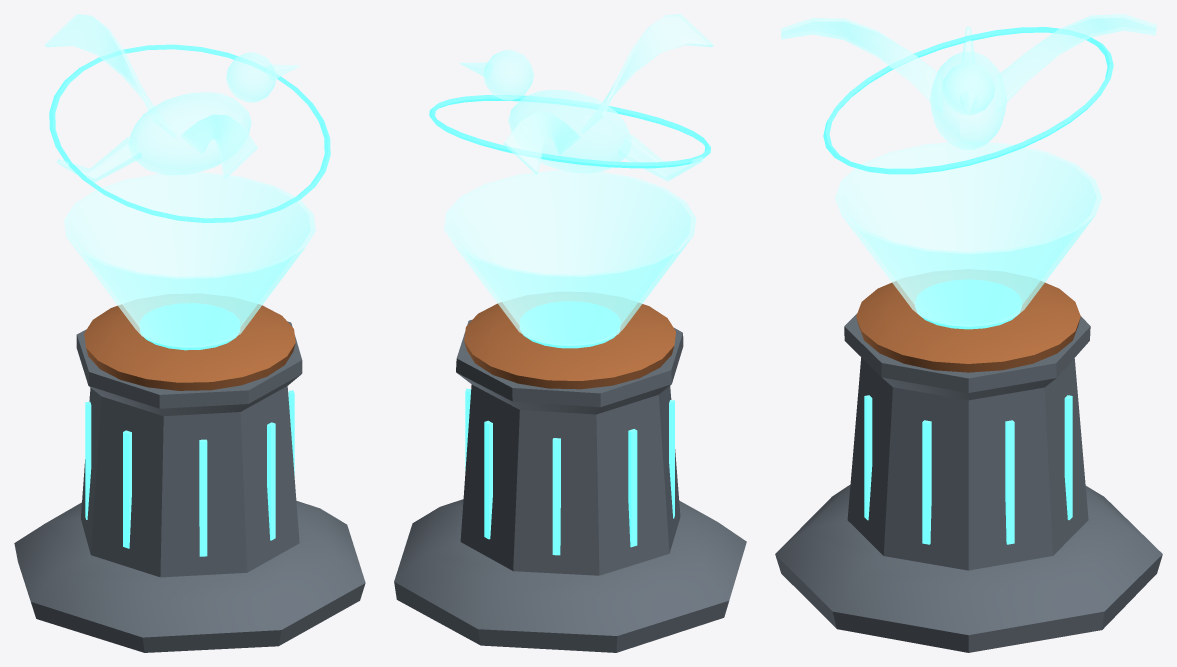
File: deco_holo_idol_creature.fbx
3 views of the same model, side by side, from view 1: azimuth 30°, elevation 25°; view 2: azimuth 150°, elevation 25°; view 3: azimuth 270°, elevation 25° (orthographic). The views are drawn at different scales.
Parts seen in each view (by area): view 1: HoloIdol_Creature_Pedestal, HoloIdol_Creature_Beam, HoloIdol_Creature_Emitter, HoloIdol_Creature_Hologram, HoloIdol_Creature_Halo; view 2: HoloIdol_Creature_Pedestal, HoloIdol_Creature_Beam, HoloIdol_Creature_Emitter, HoloIdol_Creature_Hologram, HoloIdol_Creature_Halo; view 3: HoloIdol_Creature_Pedestal, HoloIdol_Creature_Beam, HoloIdol_Creature_Emitter, HoloIdol_Creature_Hologram, HoloIdol_Creature_Halo.
Part boxes in pixels (<box>): HoloIdol_Creature_Pedestal: <box>14,321,365,652</box>; HoloIdol_Creature_Beam: <box>64,172,315,347</box>; HoloIdol_Creature_Emitter: <box>84,303,295,390</box>; HoloIdol_Creature_Hologram: <box>44,14,300,182</box>; HoloIdol_Creature_Halo: <box>49,44,330,222</box>; HoloIdol_Creature_Pedestal: <box>394,320,746,652</box>; HoloIdol_Creature_Beam: <box>444,170,696,345</box>; HoloIdol_Creature_Emitter: <box>464,301,675,389</box>; HoloIdol_Creature_Hologram: <box>459,14,713,181</box>; HoloIdol_Creature_Halo: <box>429,95,710,168</box>; HoloIdol_Creature_Pedestal: <box>775,313,1162,652</box>; HoloIdol_Creature_Beam: <box>835,142,1102,326</box>; HoloIdol_Creature_Emitter: <box>856,279,1080,372</box>; HoloIdol_Creature_Hologram: <box>781,14,1156,149</box>; HoloIdol_Creature_Halo: <box>823,27,1113,174</box>.
Size of the model in its own units: 144 by 226 by 145.
